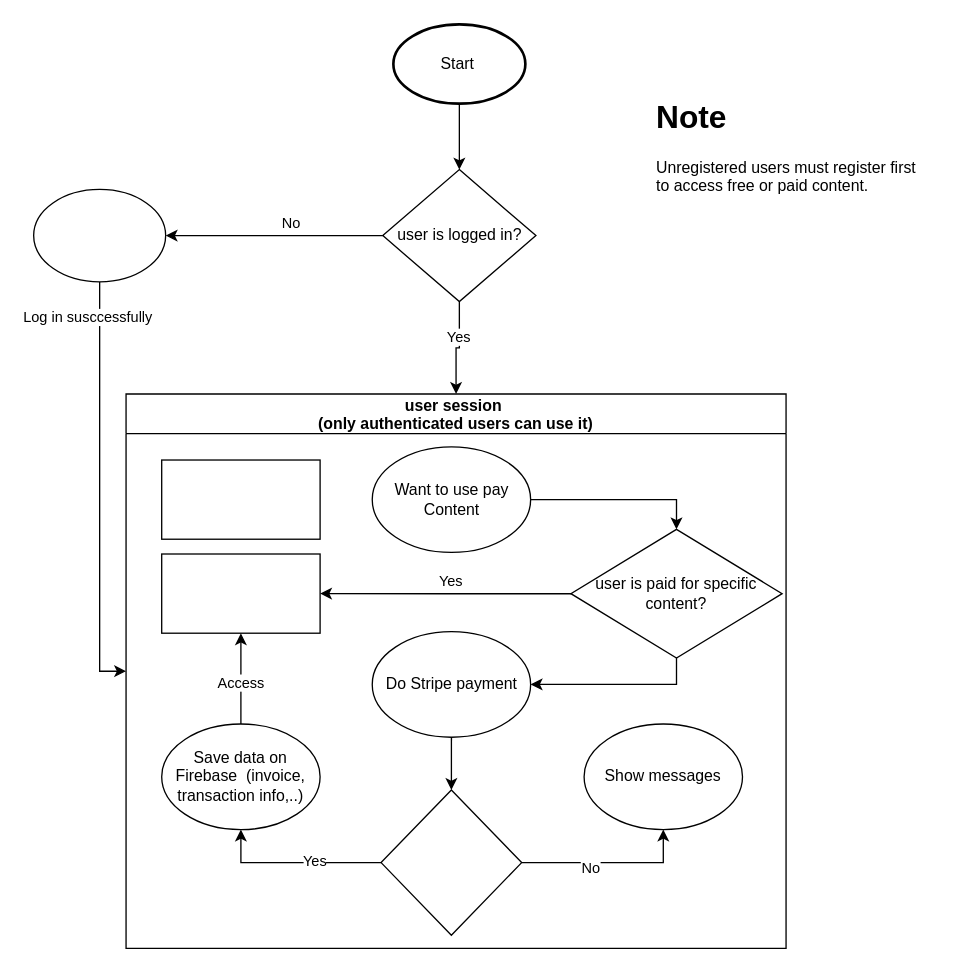
Image size: 954x972. Some labels were removed from this diagram. Here are the shapes that lost their labels. From the top down, the centre of each, then its label:
(99,235): Log in
(240,499): Free Content
(240,593): Pay Content
(451,862): paid sucessfully?
